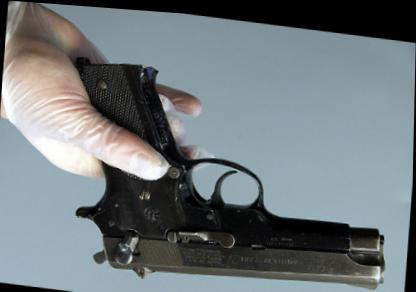pistol: (61, 55, 403, 289)
